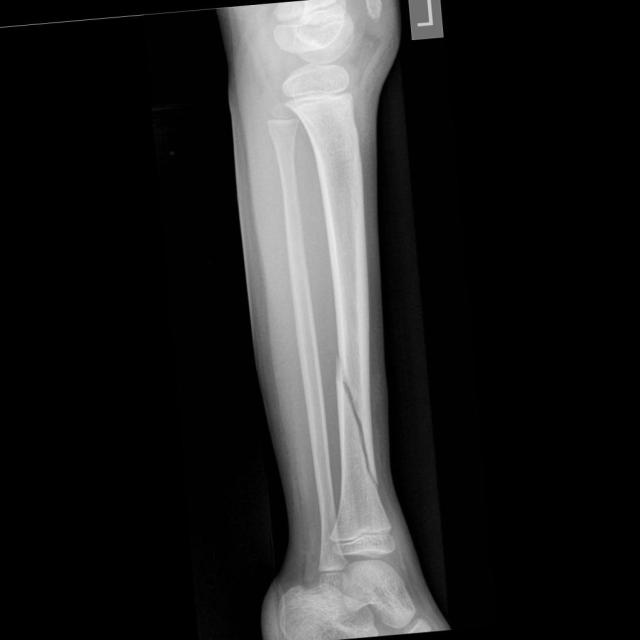Oblique Displaced: (326, 346, 385, 506)
